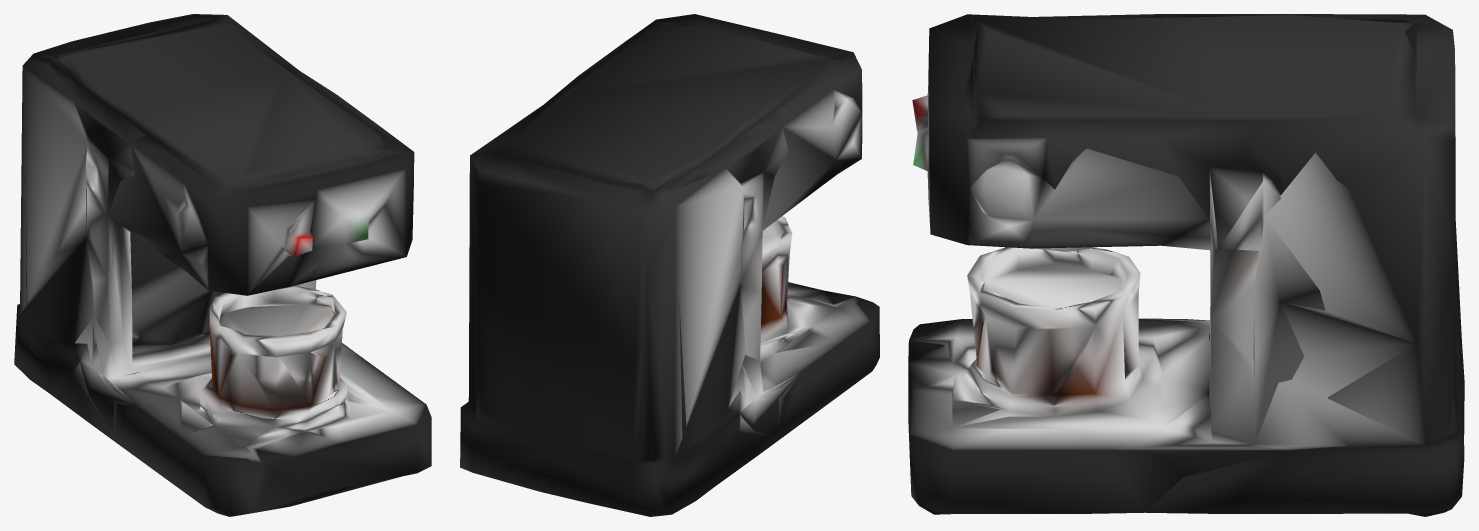
File: gen3d-espresso-machine-lod1.glb
3 views of the same model, side by side, from view 1: azimuth 30°, elevation 25°; view 2: azimuth 150°, elevation 25°; view 3: azimuth 270°, elevation 25° (orthographic). The views are drawn at different scales.
Parts seen in each view (by area): view 1: part_0; view 2: part_0; view 3: part_0.
Boxes of the visible parts, x1,y1,x2,y2 form: part_0: (14, 14, 431, 516); part_0: (460, 14, 879, 516); part_0: (908, 14, 1464, 516).
Bounding box in the file's own units: 0.7192 × 0.9986 × 1.28.
